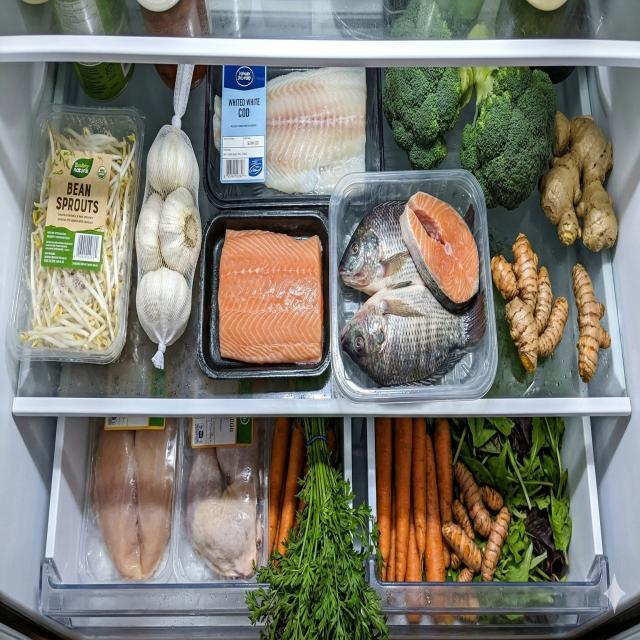bean_sprouts: (21, 120, 137, 350)
brocolli: (383, 0, 558, 212)
carrot: (374, 417, 453, 583), (269, 417, 305, 572)
chicken: (93, 418, 179, 581), (186, 419, 263, 580)
fish: (339, 191, 487, 387), (213, 67, 367, 195), (218, 228, 324, 364)
garlic: (134, 132, 202, 344)
ginger: (538, 110, 618, 253)
turmeric: (491, 233, 569, 374), (441, 461, 511, 583), (572, 262, 611, 383)
